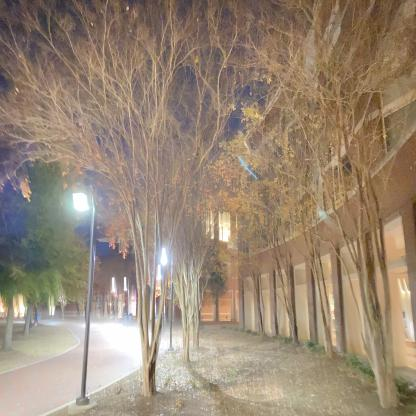eb2: (141, 84, 415, 363)
